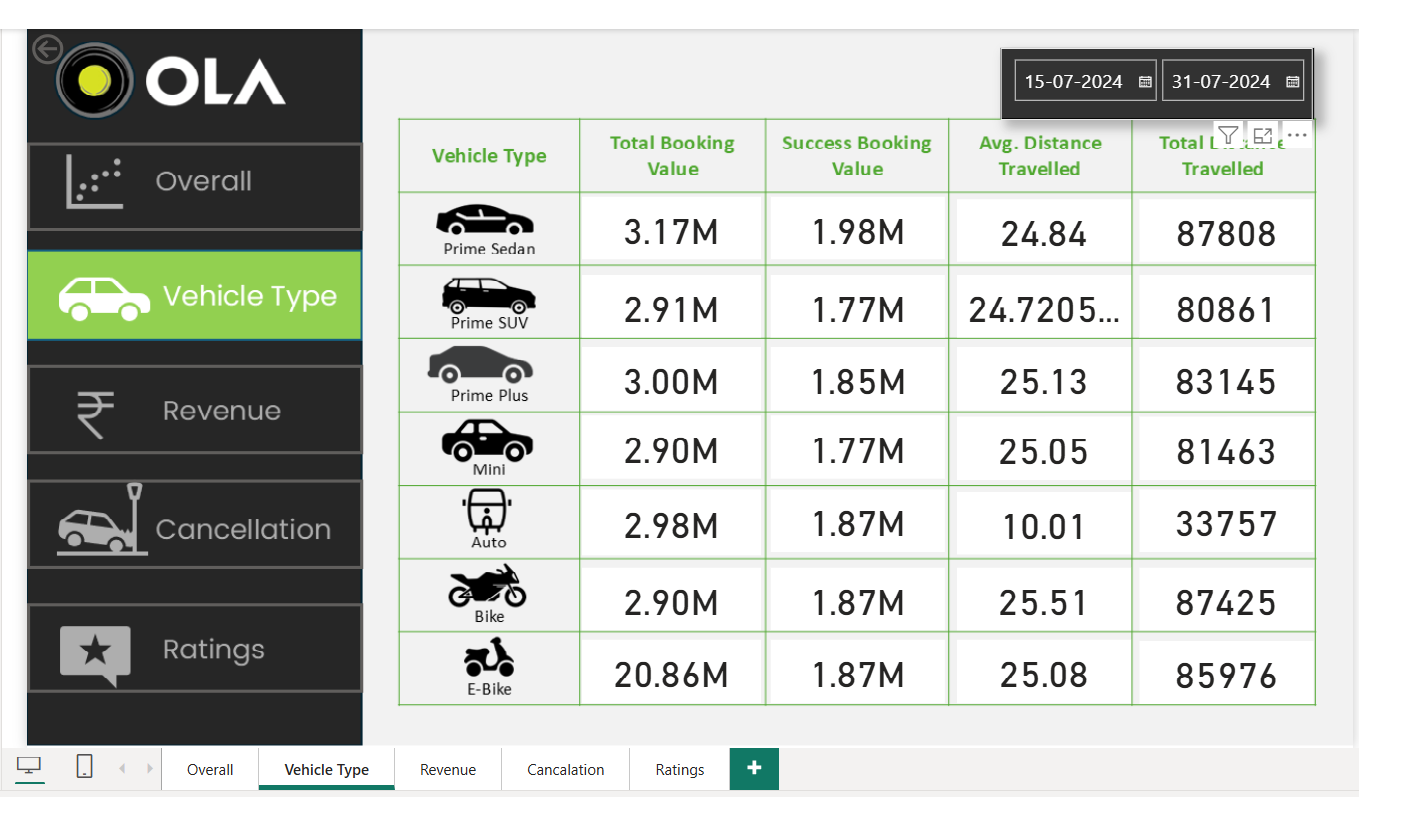

What the dashboard file says about the page in this screenshot:
{"tool":"powerbi","page":{"name":"Vehicle Type","canvas":[1280,720],"ordinal":1},"visuals":[{"type":"actionButton","box":[0,222,319.7,86.9],"z":0},{"type":"actionButton","box":[0,113.4,324.5,89.3],"z":1000},{"type":"actionButton","box":[0,336.6,324.5,89.3],"z":2000},{"type":"actionButton","box":[0,451.2,324.5,89.3],"z":3000},{"type":"actionButton","box":[0,575.5,324.5,89.3],"z":4000},{"type":"card","fields":{"Values":["Sum(July.Booking_Value)"]},"box":[535.8,167.9,172.8,63],"z":5000},{"type":"card","fields":{"Values":["Sum(July.Booking_Value)"]},"box":[535.8,245.7,172.8,63],"z":6000},{"type":"card","fields":{"Values":["Sum(July.Booking_Value)"]},"box":[535.8,318.5,172.8,63],"z":7000},{"type":"card","fields":{"Values":["Sum(July.Booking_Value)"]},"box":[535.8,387.7,172.8,63],"z":8000},{"type":"card","fields":{"Values":["Sum(July.Booking_Value)"]},"box":[535.8,460.5,172.8,66.7],"z":9000},{"type":"card","fields":{"Values":["Sum(July.Booking_Value)"]},"box":[535.8,539.5,172.8,63],"z":10000},{"type":"card","fields":{"Values":["Sum(July.Booking_Value)"]},"box":[535.8,611.1,172.8,63],"z":11000},{"type":"card","fields":{"Values":["Sum(July.Booking_Value)"]},"box":[717.3,167.9,167.9,63],"z":12000},{"type":"card","fields":{"Values":["Sum(July.Booking_Value)"]},"box":[717.3,245.7,167.9,63],"z":13000},{"type":"card","fields":{"Values":["Sum(July.Booking_Value)"]},"box":[717.3,318.5,167.9,63],"z":14000},{"type":"card","fields":{"Values":["Sum(July.Booking_Value)"]},"box":[717.3,387.7,167.9,63],"z":15000},{"type":"card","fields":{"Values":["Sum(July.Booking_Value)"]},"box":[717.3,460.5,167.9,63],"z":16000},{"type":"card","fields":{"Values":["Sum(July.Booking_Value)"]},"box":[717.3,539.5,167.9,63],"z":17000},{"type":"card","fields":{"Values":["Sum(July.Booking_Value)"]},"box":[717.3,611.1,167.9,63],"z":18000},{"type":"actionButton","box":[0,0,100,40],"z":19000},{"type":"card","fields":{"Values":["Avg(July.Ride_Distance)"]},"box":[897.5,170.4,167.9,63],"z":20000},{"type":"card","fields":{"Values":["Avg(July.Ride_Distance)"]},"box":[897.5,245.7,167.9,63],"z":21000},{"type":"card","fields":{"Values":["Avg(July.Ride_Distance)"]},"box":[897.5,318.5,167.9,63],"z":22000},{"type":"card","fields":{"Values":["Avg(July.Ride_Distance)"]},"box":[897.5,388.9,167.9,63],"z":23000},{"type":"card","fields":{"Values":["Avg(July.Ride_Distance)"]},"box":[897.5,463,167.9,63],"z":24000},{"type":"card","fields":{"Values":["Avg(July.Ride_Distance)"]},"box":[897.5,539.5,167.9,63],"z":25000},{"type":"card","fields":{"Values":["Avg(July.Ride_Distance)"]},"box":[897.5,611.1,167.9,63],"z":26000},{"type":"card","fields":{"Values":["Sum(July.Ride_Distance)"]},"box":[1074.1,170.4,167.9,63],"z":27000},{"type":"card","fields":{"Values":["Sum(July.Ride_Distance)"]},"box":[1074.1,245.7,167.9,63],"z":28000},{"type":"card","fields":{"Values":["Sum(July.Ride_Distance)"]},"box":[1074.1,318.5,167.9,63],"z":29000},{"type":"card","fields":{"Values":["Sum(July.Ride_Distance)"]},"box":[1074.1,388.9,167.9,63],"z":30000},{"type":"card","fields":{"Values":["Sum(July.Ride_Distance)"]},"box":[1074.1,460.5,167.9,63],"z":31000},{"type":"card","fields":{"Values":["Sum(July.Ride_Distance)"]},"box":[1074.1,539.5,167.9,63],"z":32000},{"type":"card","fields":{"Values":["Sum(July.Ride_Distance)"]},"box":[1074.1,612.3,167.9,63],"z":33000},{"type":"slicer","title":"Date","fields":{"Values":["July.Date"]},"box":[939.5,19.8,302.5,70.4],"z":34000}]}

Visuals, with their boxes on the page's 1280x720 design canvas (x1, y1, x2, y2). These are canvas units, not pixel positions in the 1405x822 screenshot, which may show the page scaled, cropped or inside an application window:
actionButton: 0/222/320/309
actionButton: 0/113/324/203
actionButton: 0/337/324/426
actionButton: 0/451/324/540
actionButton: 0/576/324/665
card - Sum(July.Booking_Value): 536/168/709/231
card - Sum(July.Booking_Value): 536/246/709/309
card - Sum(July.Booking_Value): 536/318/709/382
card - Sum(July.Booking_Value): 536/388/709/451
card - Sum(July.Booking_Value): 536/460/709/527
card - Sum(July.Booking_Value): 536/540/709/602
card - Sum(July.Booking_Value): 536/611/709/674
card - Sum(July.Booking_Value): 717/168/885/231
card - Sum(July.Booking_Value): 717/246/885/309
card - Sum(July.Booking_Value): 717/318/885/382
card - Sum(July.Booking_Value): 717/388/885/451
card - Sum(July.Booking_Value): 717/460/885/524
card - Sum(July.Booking_Value): 717/540/885/602
card - Sum(July.Booking_Value): 717/611/885/674
actionButton: 0/0/100/40
card - Avg(July.Ride_Distance): 898/170/1065/233
card - Avg(July.Ride_Distance): 898/246/1065/309
card - Avg(July.Ride_Distance): 898/318/1065/382
card - Avg(July.Ride_Distance): 898/389/1065/452
card - Avg(July.Ride_Distance): 898/463/1065/526
card - Avg(July.Ride_Distance): 898/540/1065/602
card - Avg(July.Ride_Distance): 898/611/1065/674
card - Sum(July.Ride_Distance): 1074/170/1242/233
card - Sum(July.Ride_Distance): 1074/246/1242/309
card - Sum(July.Ride_Distance): 1074/318/1242/382
card - Sum(July.Ride_Distance): 1074/389/1242/452
card - Sum(July.Ride_Distance): 1074/460/1242/524
card - Sum(July.Ride_Distance): 1074/540/1242/602
card - Sum(July.Ride_Distance): 1074/612/1242/675
"Date" slicer: 940/20/1242/90
